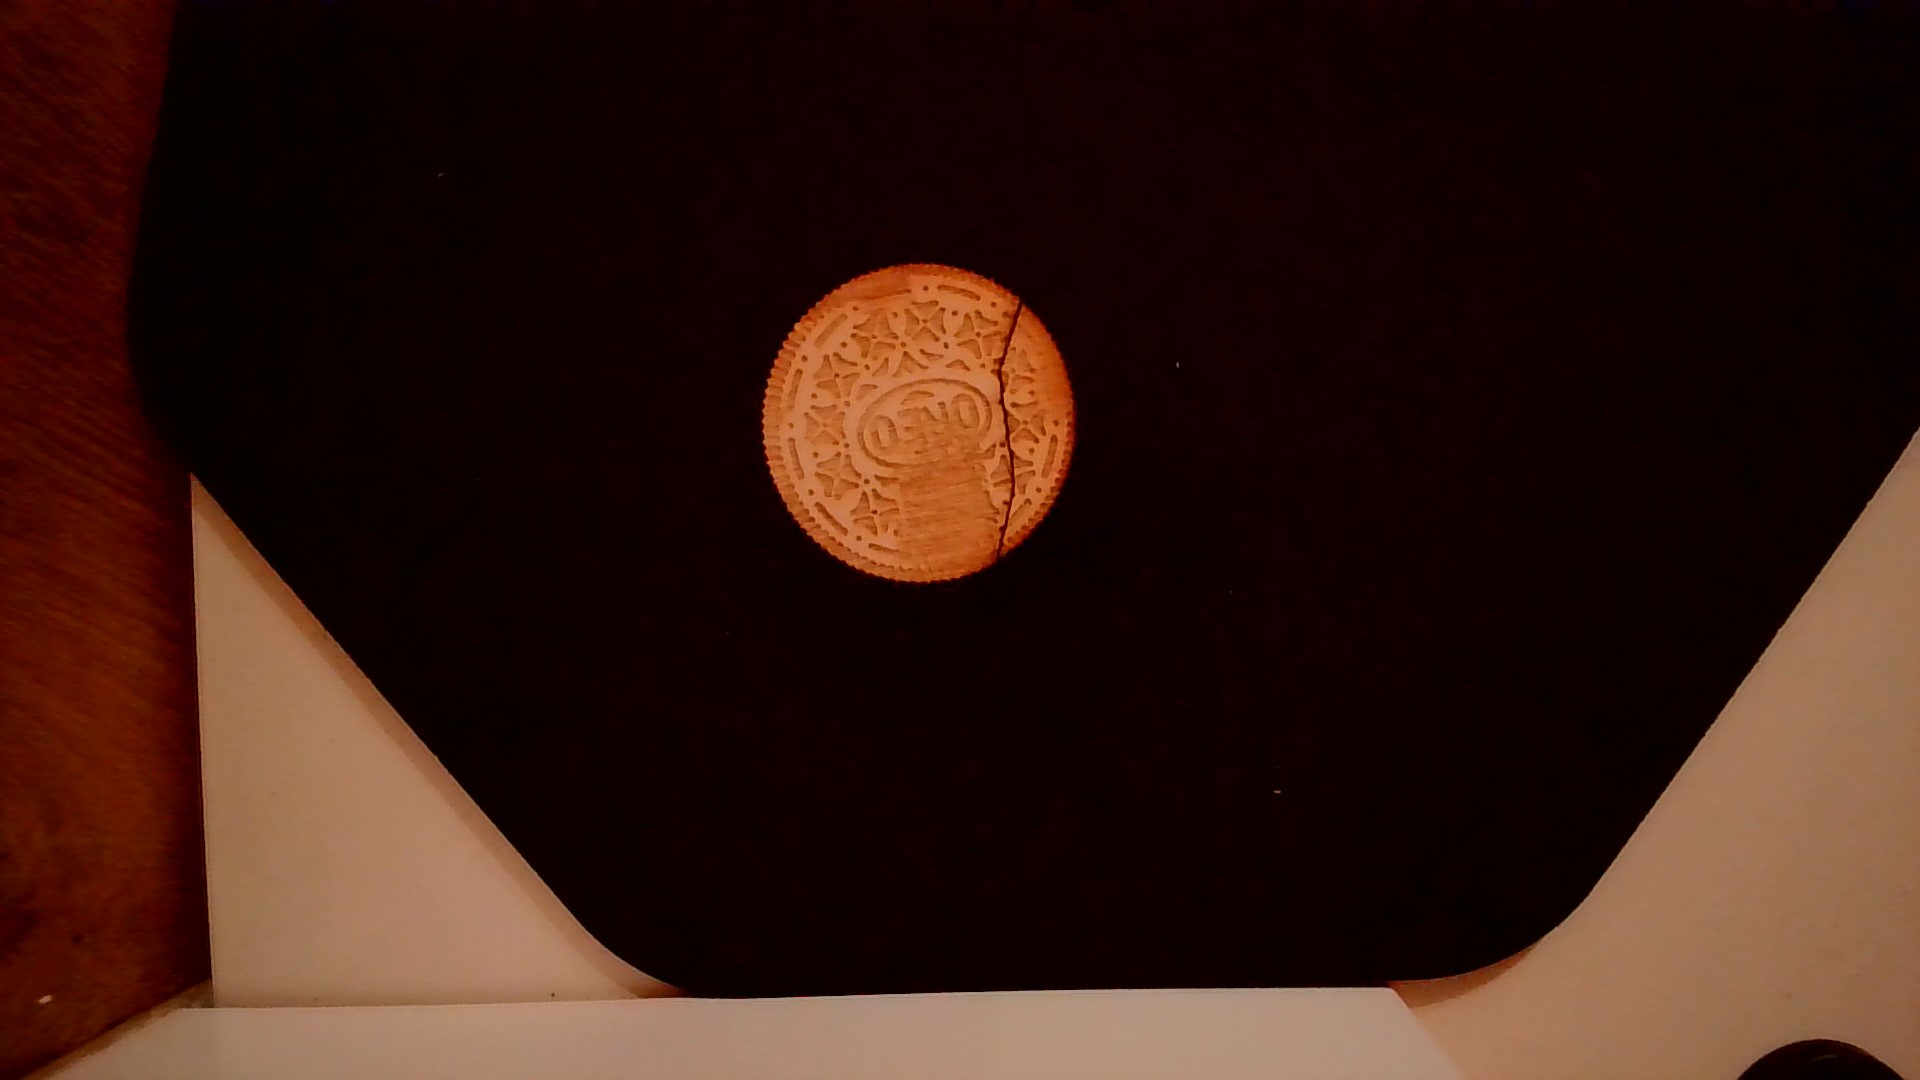Effacé: (882, 446, 982, 575), (839, 264, 916, 320), (1034, 338, 1071, 433)
Fissure: (982, 294, 1038, 574)
Oréo: (746, 256, 1085, 585)
